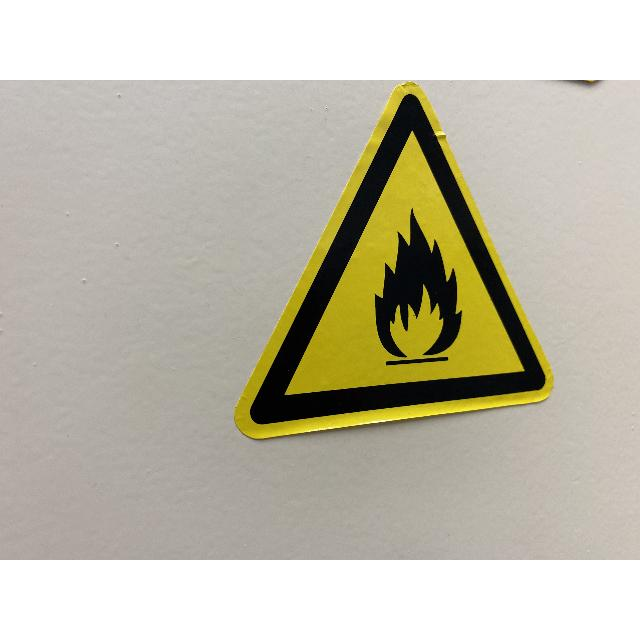fire hazard: (362, 208, 463, 368)
